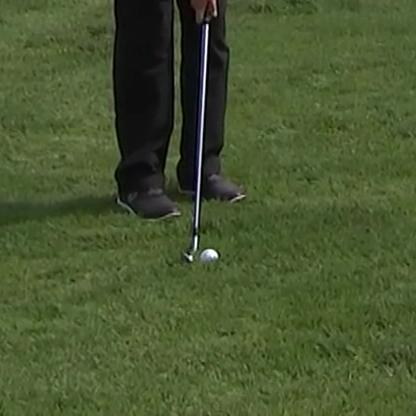golfball: (197, 249, 219, 265)
